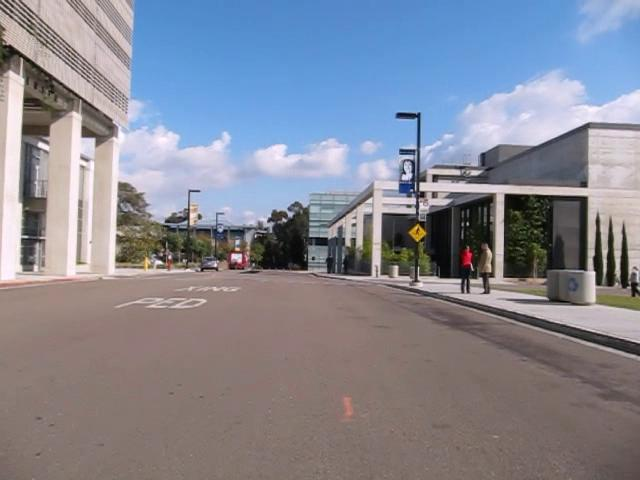pedestrianCrossing: (407, 222, 428, 244)
